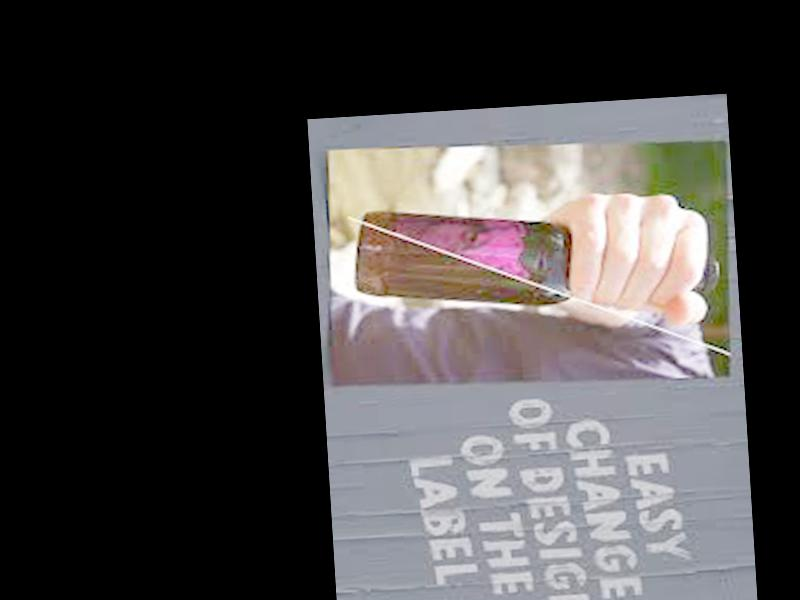Beer: (352, 194, 717, 318)
